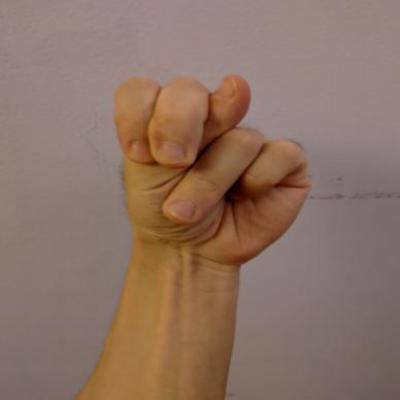hand: (109, 64, 316, 270)
